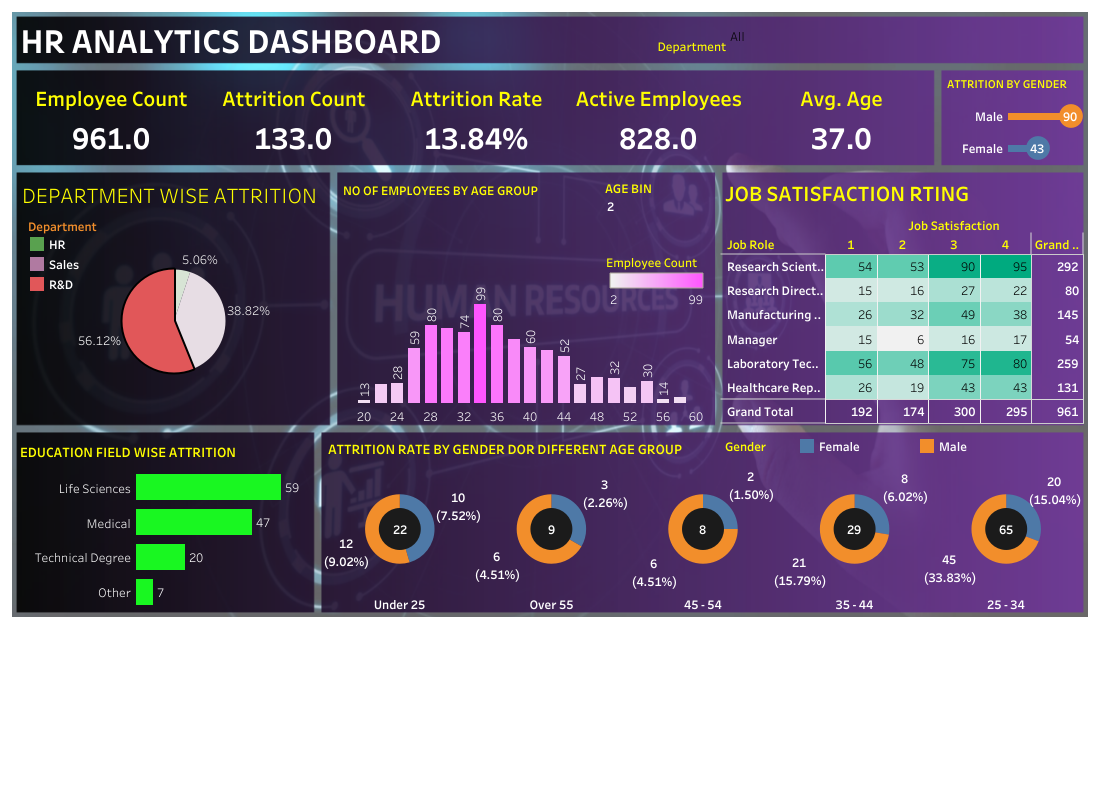

This screenshot's page, from the dashboard's own definition file:
{"tool":"tableau","page":{"name":"Dashboard 1","canvas":[1100,800],"ordinal":0},"visuals":[{"type":"image","param":"Image/HR background.pptx (2).png","box":[8,8,1084,784]},{"type":"text","box":[18,17,728,46]},{"type":"filter","title":"DEPARTMENT WISE ATTRITION","param":"[federated.0uy1m5v0i9wguj15l0igj0en1a3q].[none:Department:nk]","box":[656,27,284,37]},{"type":"worksheet","title":"ATTRITION BY GENDER","mark":"Automatic","rows":["Gender"],"cols":["Calculation_365917519100985344","Calculation_365917519100985344"],"box":[928,70,159,94]},{"type":"worksheet","title":"KPI","mark":"Automatic","box":[20,72,913,91]},{"type":"worksheet","title":"JOB SATISFACTION RATING","mark":"Square","rows":["Job Role"],"cols":["Job Satisfaction"],"box":[721,173,363,251]},{"type":"worksheet","title":"DEPARTMENT WISE ATTRITION","mark":"Pie","box":[18,175,312,249]},{"type":"worksheet","title":"NO OF EMPLOYEES BY AGE GROPU","mark":"Automatic","rows":["Employee Count"],"cols":["Age (bin)"],"box":[339,175,366,250]},{"type":"parameter","param":"[Parameters].[Parameter 1]","box":[605,178,108,67]},{"type":"legend","title":"DEPARTMENT WISE ATTRITION","param":"[federated.0uy1m5v0i9wguj15l0igj0en1a3q].[none:Department:nk]","box":[27,215,94,78]},{"type":"legend","title":"NO OF EMPLOYEES BY AGE GROPU","param":"[federated.0uy1m5v0i9wguj15l0igj0en1a3q].[sum:Employee Count:qk]","box":[606,249,102,58]},{"type":"worksheet","title":"ATTRITION RATE BY GENDER DOR DIFFERENT AGE GROUP","mark":"Pie","rows":["Calculation_844706454904078339","Calculation_844706454904078339"],"cols":["CF_age band"],"box":[324,433,758,180]},{"type":"worksheet","title":"EDUCATION FIELD WISE ATTRITION","mark":"Automatic","rows":["Education Field"],"cols":["Calculation_365917519100985344"],"box":[16,436,297,173]},{"type":"legend","title":"ATTRITION RATE BY GENDER DOR DIFFERENT AGE GROUP","param":"[federated.0uy1m5v0i9wguj15l0igj0en1a3q].[none:Gender:nk]","box":[725,436,335,33]}]}

Visuals, with their boxes in screenshot pixels (x1, y1, x2, y2), scaled from the page's 1100x800 canvas onto the 1099x799 screenshot:
image: locate(8, 8, 1091, 791)
text: locate(18, 17, 745, 63)
"DEPARTMENT WISE ATTRITION" filter: locate(655, 27, 939, 64)
"ATTRITION BY GENDER" worksheet: locate(927, 70, 1086, 164)
"KPI" worksheet: locate(20, 72, 932, 163)
"JOB SATISFACTION RATING" worksheet (Square marks): locate(720, 173, 1083, 423)
"DEPARTMENT WISE ATTRITION" worksheet (Pie marks): locate(18, 175, 330, 423)
"NO OF EMPLOYEES BY AGE GROPU" worksheet: locate(339, 175, 704, 424)
parameter: locate(604, 178, 712, 245)
"DEPARTMENT WISE ATTRITION" legend: locate(27, 215, 121, 293)
"NO OF EMPLOYEES BY AGE GROPU" legend: locate(605, 249, 707, 307)
"ATTRITION RATE BY GENDER DOR DIFFERENT AGE GROUP" worksheet (Pie marks): locate(324, 432, 1081, 612)
"EDUCATION FIELD WISE ATTRITION" worksheet: locate(16, 435, 313, 608)
"ATTRITION RATE BY GENDER DOR DIFFERENT AGE GROUP" legend: locate(724, 435, 1059, 468)
